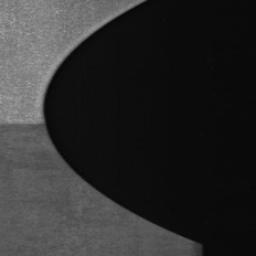Crescent gap: (44, 3, 192, 241)
